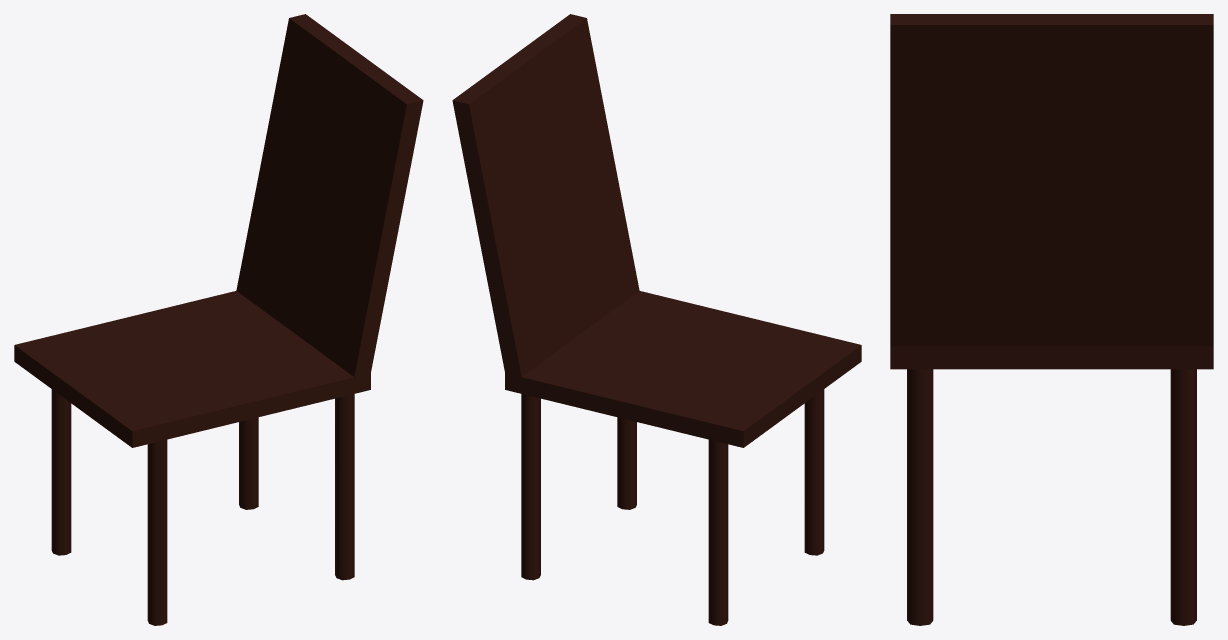
Rendered from chair.fbx.
3 renders of one model, left to right at view 1: azimuth 30°, elevation 25°; view 2: azimuth 150°, elevation 25°; view 3: azimuth 270°, elevation 25°, orthographic. The views are drawn at different scales.
Parts seen in each view (by area): view 1: chair_combined; view 2: chair_combined; view 3: chair_combined.
Part boxes in pixels (<box>): chair_combined: <box>14,14,423,625</box>; chair_combined: <box>452,14,861,625</box>; chair_combined: <box>890,14,1213,625</box>.
Bounding box in the file's own units: 3.69 × 5.65 × 2.59.
